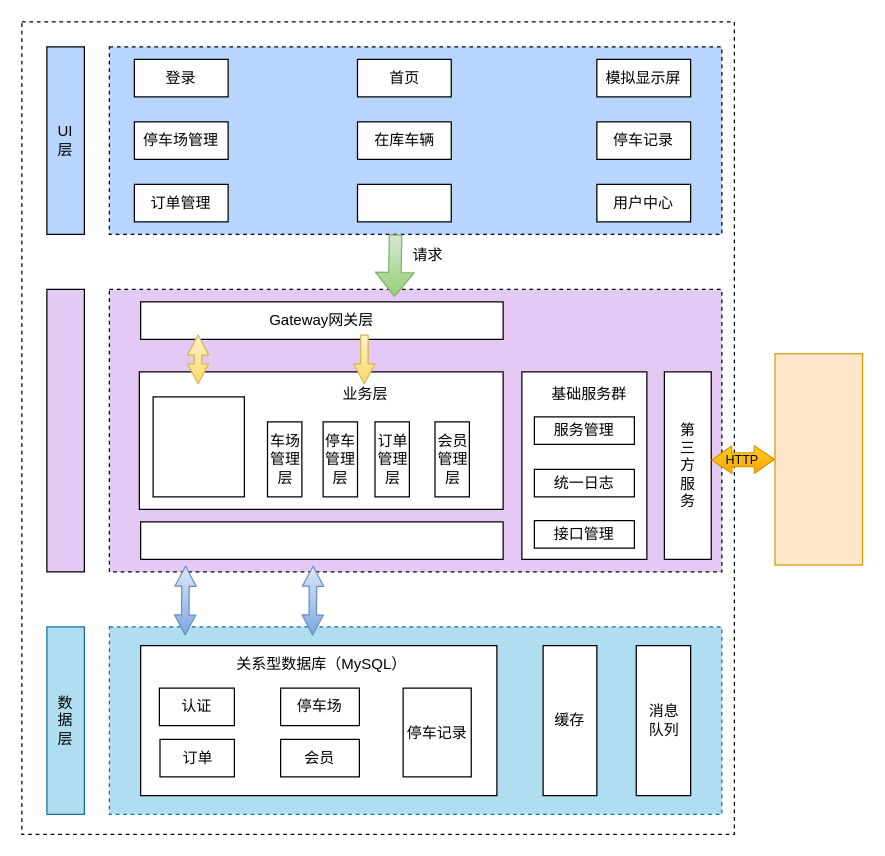
The diagram is 885 pixels wide and 856 high, and some of its shapes have lost their labels. Here are the shapes that lost their labels. From the top down, the centre of each, then its label:
pixel 403 202: 会员管理
pixel 65 430: 微 服 务 层
pixel 198 446: Auth认证层
pixel 818 458: 支付 系统
pixel 321 540: 数据接口
